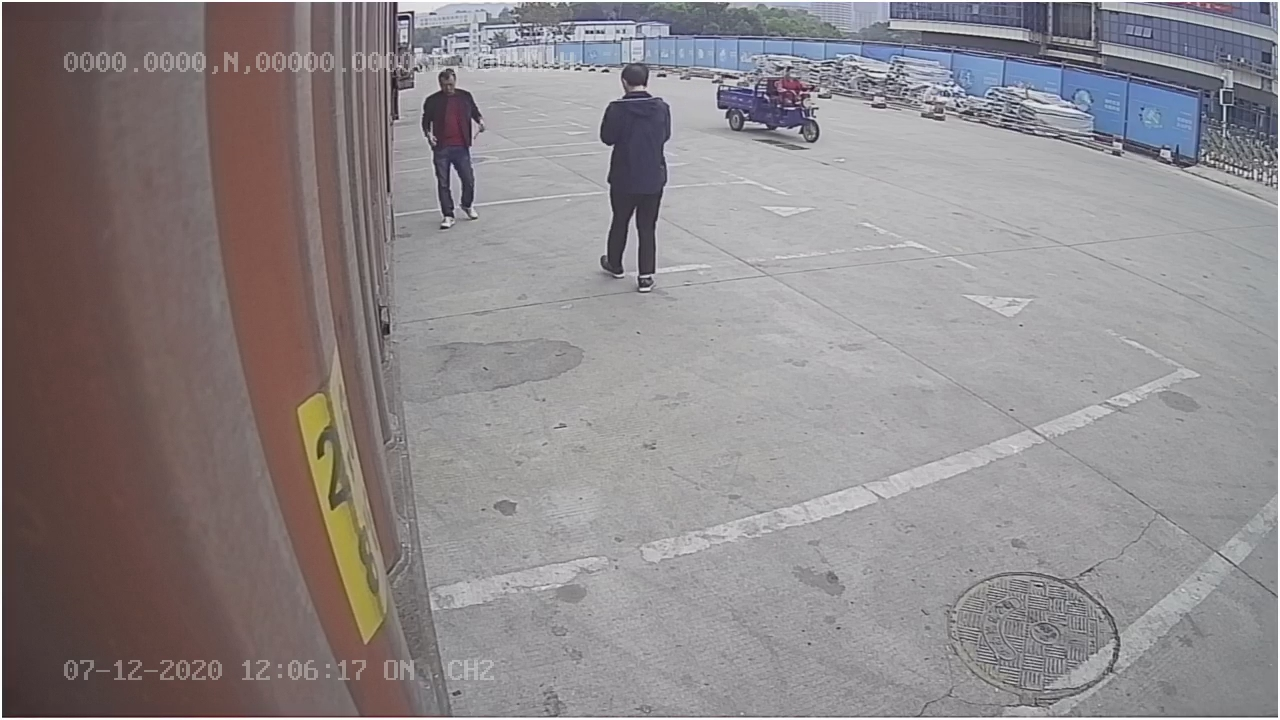person: (593, 57, 673, 289)
